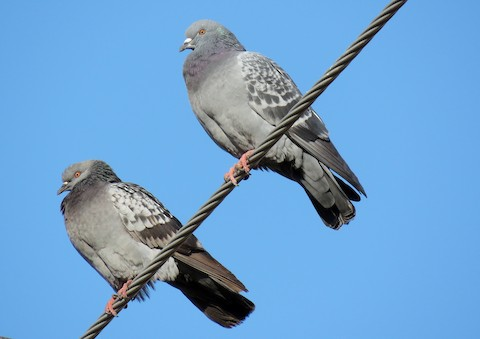pigeon: (176, 16, 377, 231), (55, 156, 257, 334)
